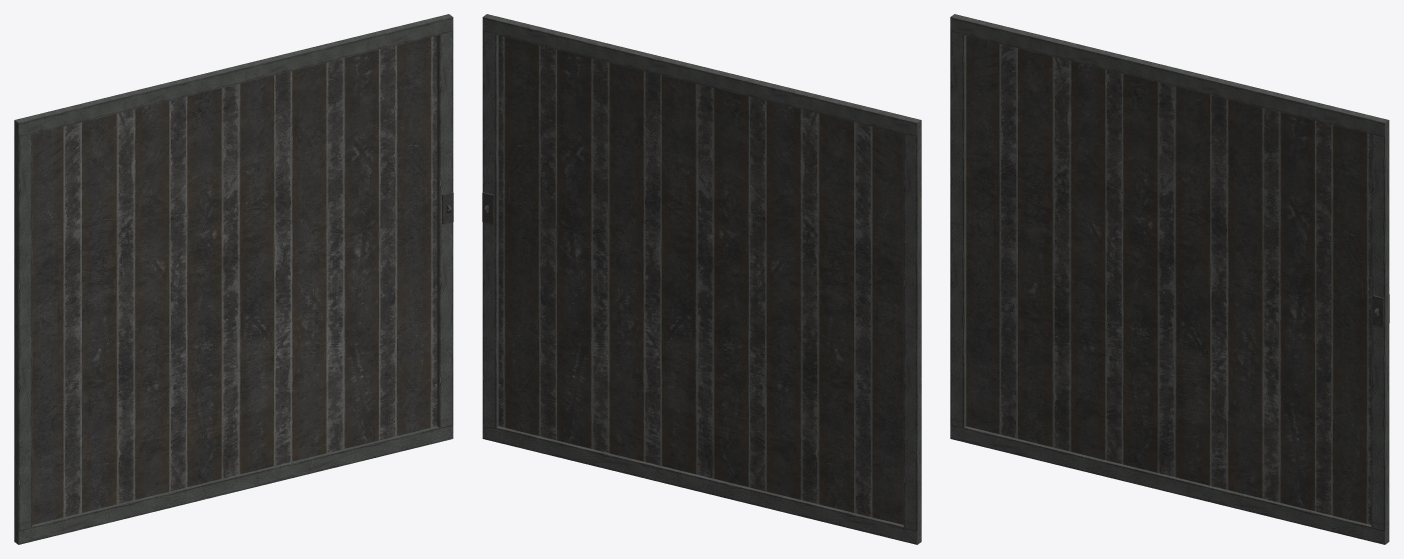
File: door_large.fbx
3 renders of one model, left to right at view 1: azimuth 30°, elevation 25°; view 2: azimuth 150°, elevation 25°; view 3: azimuth 330°, elevation 25°, orthographic.
Parts seen in each view (by area): view 1: door_large; view 2: door_large; view 3: door_large.
Part boxes in pixels (box(x1,y1,x2,y2)): door_large: box(14, 14, 453, 544); door_large: box(482, 14, 921, 544); door_large: box(950, 14, 1389, 544).
Bounding box in the file's own units: 285 × 264 × 12.92.
